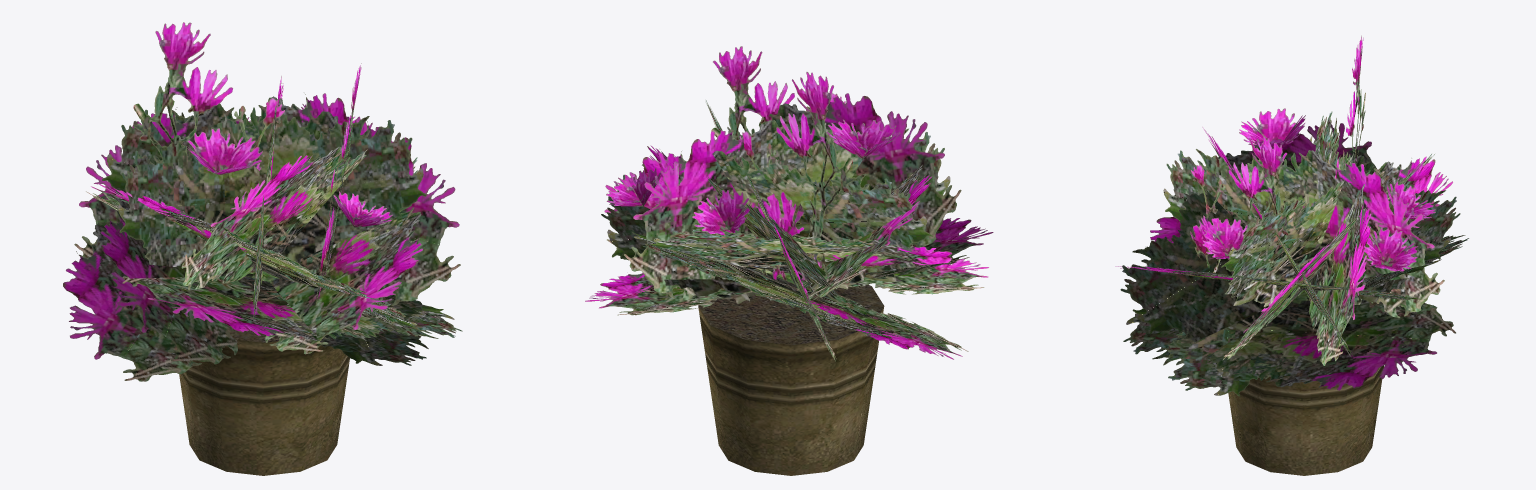
File: frn_all_potted_plants_sml_s02_l0.fbx
3 renders of one model, left to right at view 1: azimuth 30°, elevation 25°; view 2: azimuth 150°, elevation 25°; view 3: azimuth 270°, elevation 25°, orthographic. The views are drawn at different scales.
Parts seen in each view (by area): view 1: mesh_node; view 2: mesh_node; view 3: mesh_node.
Part boxes in pixels (bbox=[...]): mesh_node: bbox=[63, 22, 462, 475]; mesh_node: bbox=[585, 46, 993, 475]; mesh_node: bbox=[1115, 35, 1468, 475].
Size of the model in its own units: 1.43 by 1.36 by 1.41.
3 materials, 3 textured.
